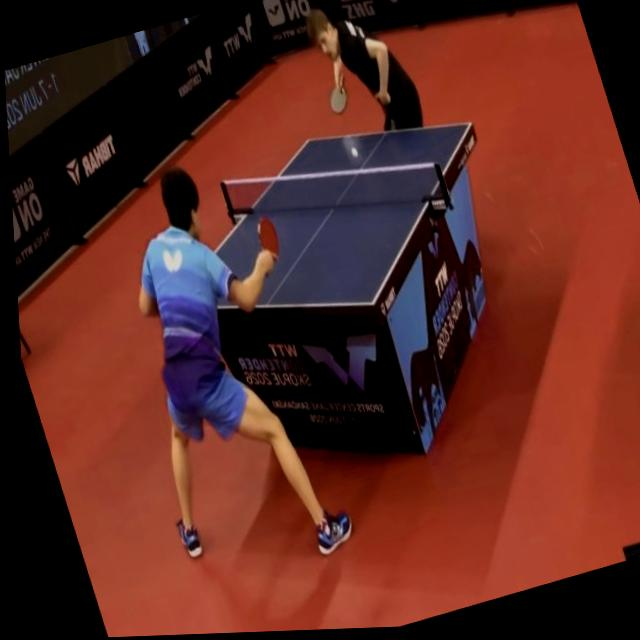TT Net: (219, 160, 453, 219)
TT Racket: (250, 210, 281, 263), (328, 81, 354, 119)
TT Table: (169, 122, 471, 304)
